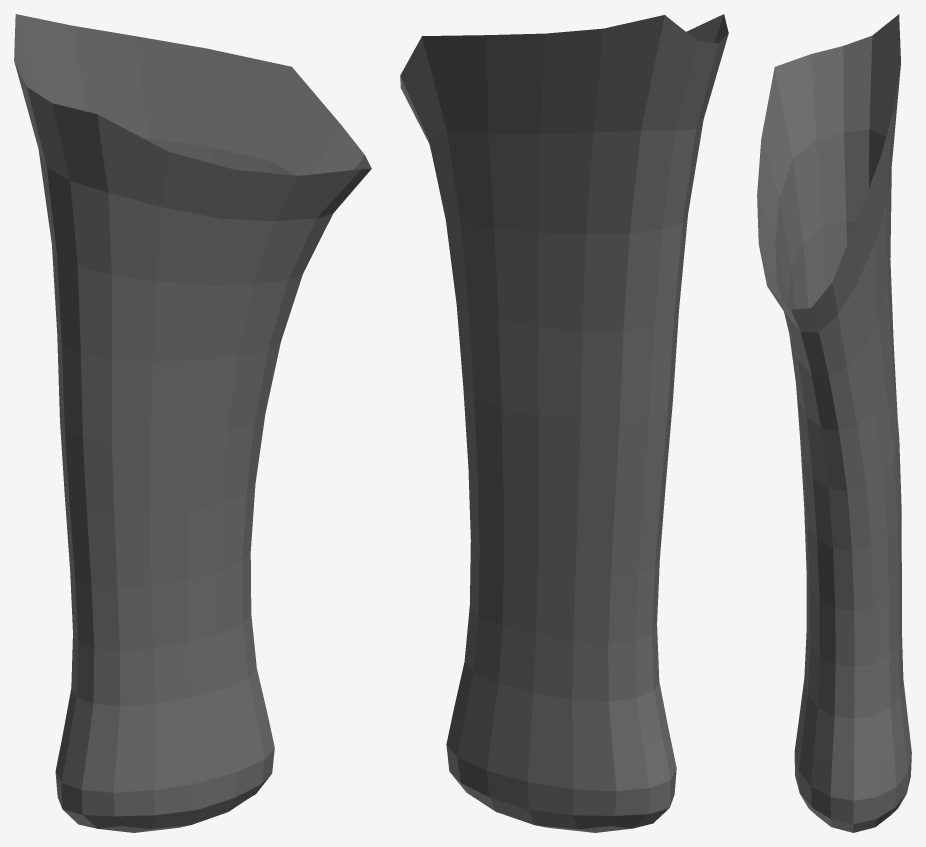
The model's file is DerFront.obj.
3 renders of one model, left to right at view 1: azimuth 30°, elevation 25°; view 2: azimuth 150°, elevation 25°; view 3: azimuth 270°, elevation 25°, orthographic. The views are drawn at different scales.
Parts seen in each view (by area): view 1: polySurface3 polySurface2 Elefante:Mesh1; view 2: polySurface3 polySurface2 Elefante:Mesh1; view 3: polySurface3 polySurface2 Elefante:Mesh1.
Part boxes in pixels (x1,y1,x2,y2): polySurface3 polySurface2 Elefante:Mesh1: (14, 14, 371, 832); polySurface3 polySurface2 Elefante:Mesh1: (400, 14, 728, 832); polySurface3 polySurface2 Elefante:Mesh1: (757, 14, 911, 832).
Bounding box in the file's own units: 0.5639 × 1.37 × 0.2612.
Materials: 1 (1 with a texture image).
